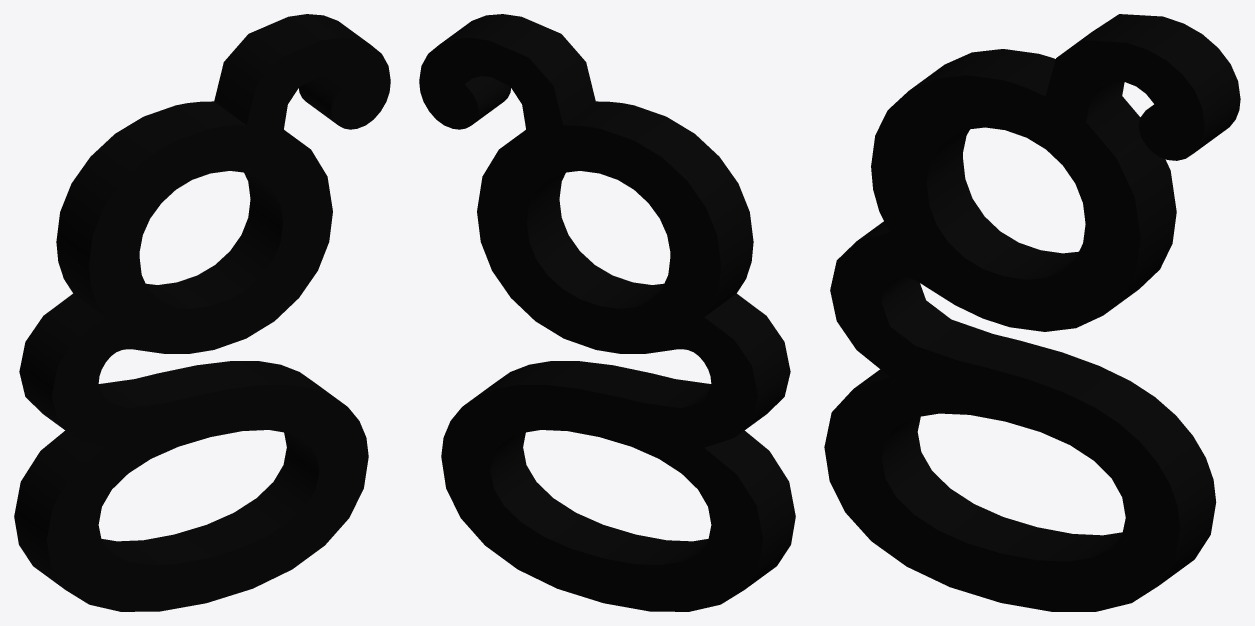
The picture shows the model from 3 angles, left to right: view 1: azimuth 30°, elevation 25°; view 2: azimuth 150°, elevation 25°; view 3: azimuth 330°, elevation 25°; orthographic projection. The views are drawn at different scales.
Visible parts, largest first — view 1: mesh_id36; view 2: mesh_id36; view 3: mesh_id36.
Boxes of the visible parts, x1=… form: mesh_id36: x1=14, y1=14, x2=390, y2=611; mesh_id36: x1=419, y1=14, x2=795, y2=611; mesh_id36: x1=824, y1=14, x2=1240, y2=611.
Bounding box in the file's own units: 0.3317 × 0.4925 × 0.0543.
1 material, 1 textured.
